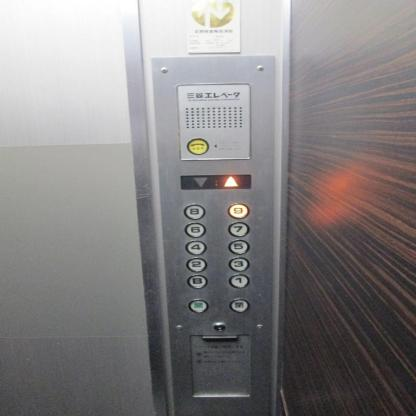1: (226, 272, 250, 289)
2: (184, 256, 208, 272)
3: (226, 256, 250, 272)
4: (183, 238, 206, 256)
5: (226, 237, 250, 256)
6: (182, 220, 206, 239)
7: (226, 219, 250, 238)
8: (182, 202, 205, 221)
9: (225, 201, 250, 219)
B: (184, 272, 208, 290)
text_close door: (227, 297, 250, 314)
text_oepn: (186, 297, 209, 314)
